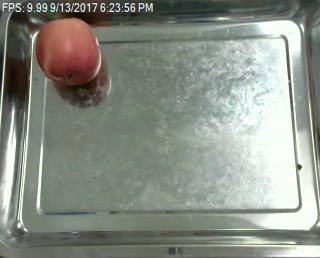apple: (36, 17, 102, 86)
